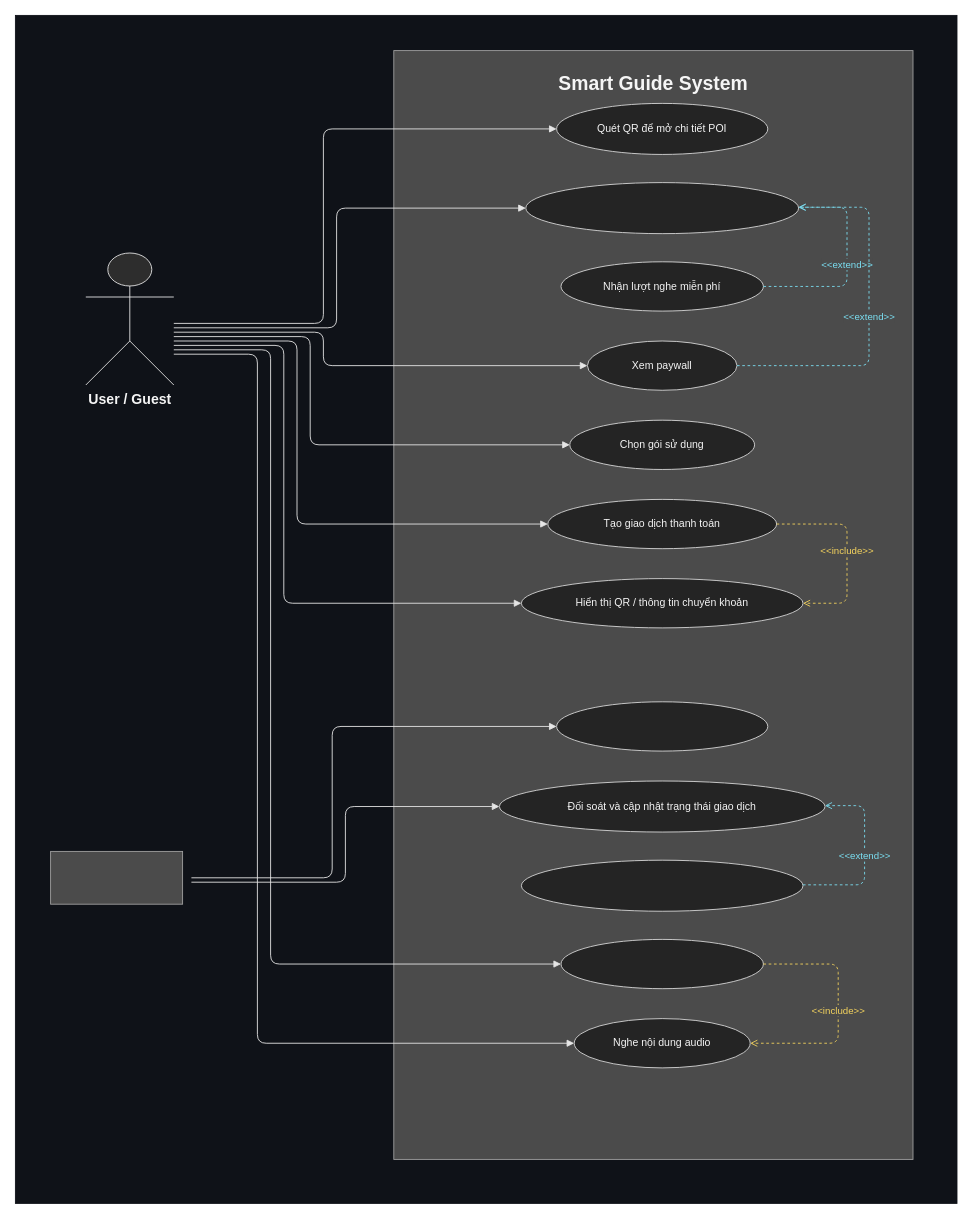
The diagram is 972 pixels wide and 1219 high, and some of its shapes have lost their labels. Here are the shapes that lost their labels. From the top down, the centre of each, then its label:
the point at 662,208: Kiểm tra trạng thái quyền truy cập
the point at 662,726: Gửi xác nhận thanh toán
the point at 116,877: Cổng thanh toán Sepay
the point at 662,885: Kích hoạt / gia hạn gói sử dụng
the point at 661,964: Mở quyền nghe nội dung
